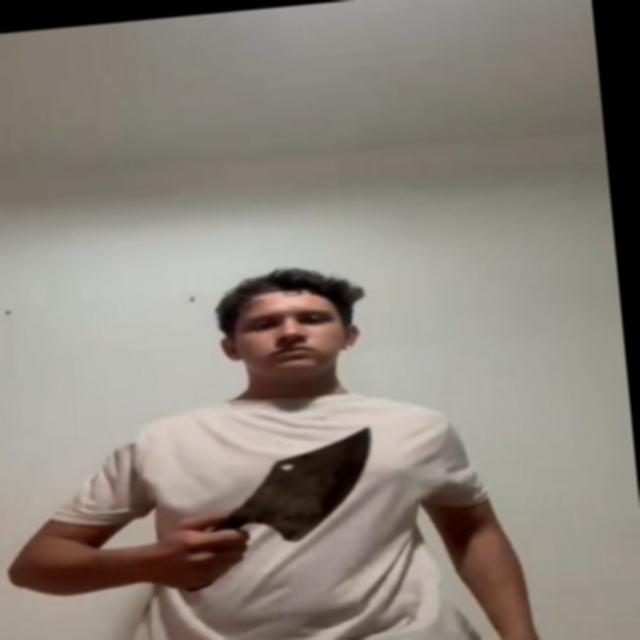Sharp-Object: (226, 428, 381, 547)
